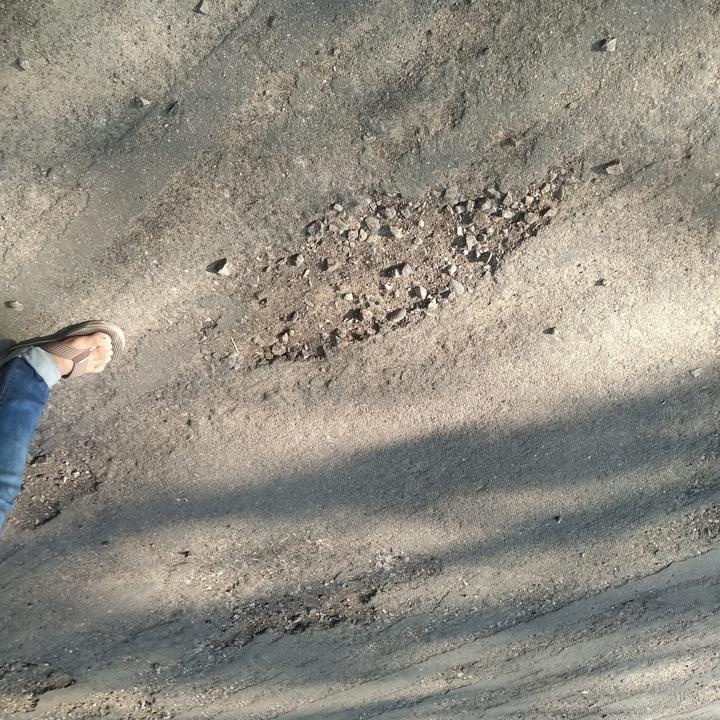pothole: (222, 161, 576, 378), (206, 576, 383, 651), (11, 447, 104, 537), (36, 680, 170, 719), (0, 658, 76, 719)
